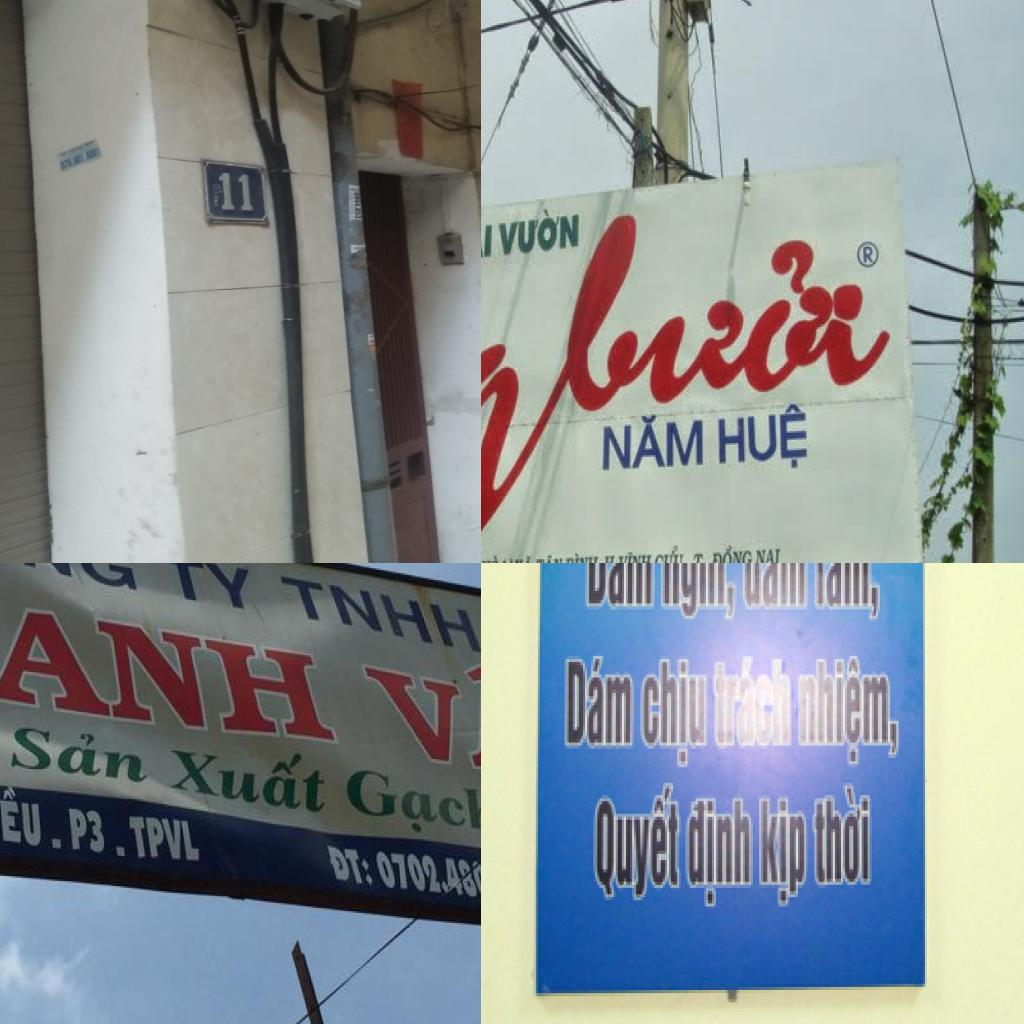text: (527, 206, 909, 419), (0, 563, 336, 744), (348, 641, 481, 799), (279, 574, 481, 658), (796, 656, 902, 770), (589, 782, 683, 910), (172, 747, 328, 819), (345, 764, 481, 846), (5, 724, 150, 791), (636, 656, 712, 773), (685, 792, 755, 916), (712, 656, 794, 755), (598, 406, 710, 477), (560, 656, 638, 755), (718, 394, 810, 474), (810, 783, 876, 894), (368, 845, 481, 909), (757, 798, 810, 910), (151, 563, 255, 618), (494, 201, 582, 260), (658, 563, 738, 627), (814, 563, 883, 625), (126, 812, 200, 868), (579, 563, 657, 612), (738, 563, 810, 615), (0, 785, 47, 851), (326, 844, 379, 893), (66, 804, 109, 861), (217, 171, 256, 213), (712, 542, 754, 563), (653, 542, 692, 563), (481, 214, 495, 268), (858, 240, 877, 267), (754, 545, 782, 563), (617, 550, 653, 563), (563, 552, 603, 563), (481, 553, 515, 563), (352, 192, 364, 219), (535, 552, 564, 563), (691, 550, 712, 563), (84, 146, 103, 160), (512, 554, 534, 563), (603, 552, 621, 563), (59, 156, 73, 170), (72, 152, 85, 165), (210, 182, 222, 192), (212, 195, 220, 207)
